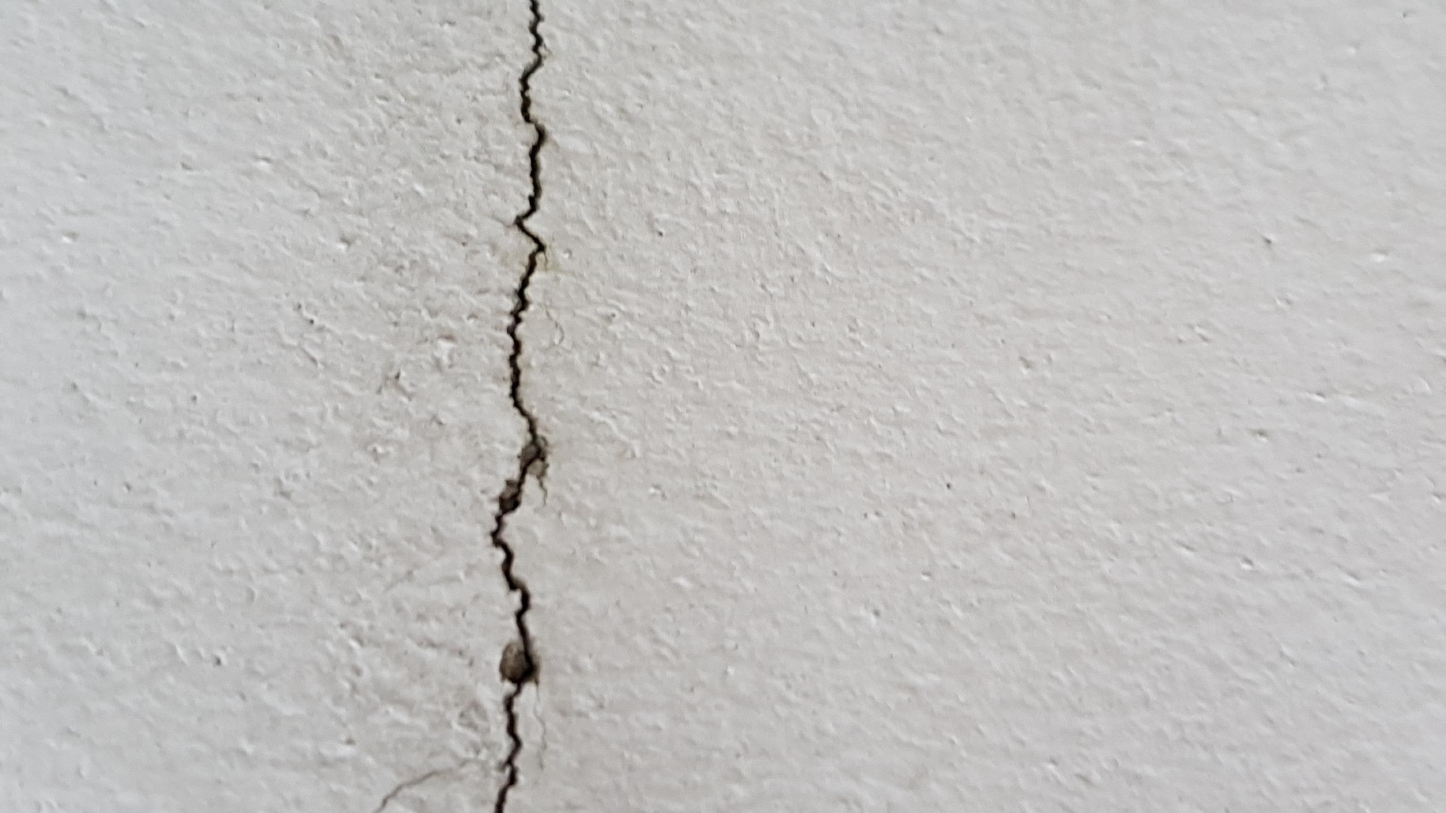crack: (483, 0, 553, 812)
